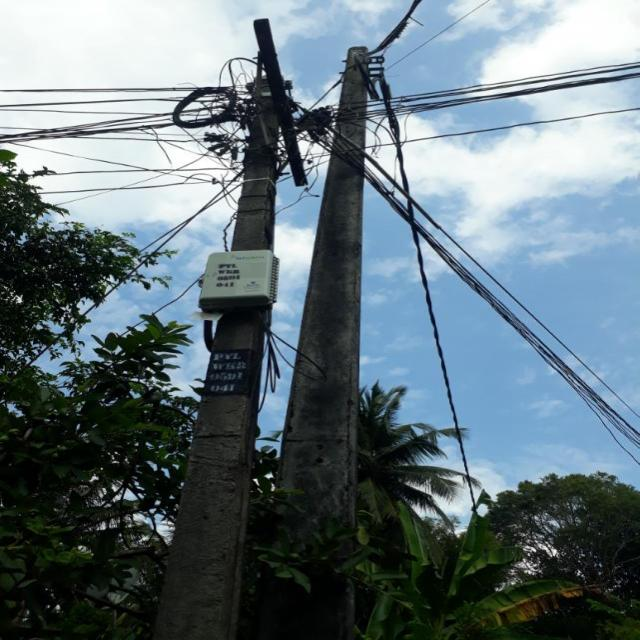light_pole: (144, 59, 288, 640), (268, 44, 392, 640)
